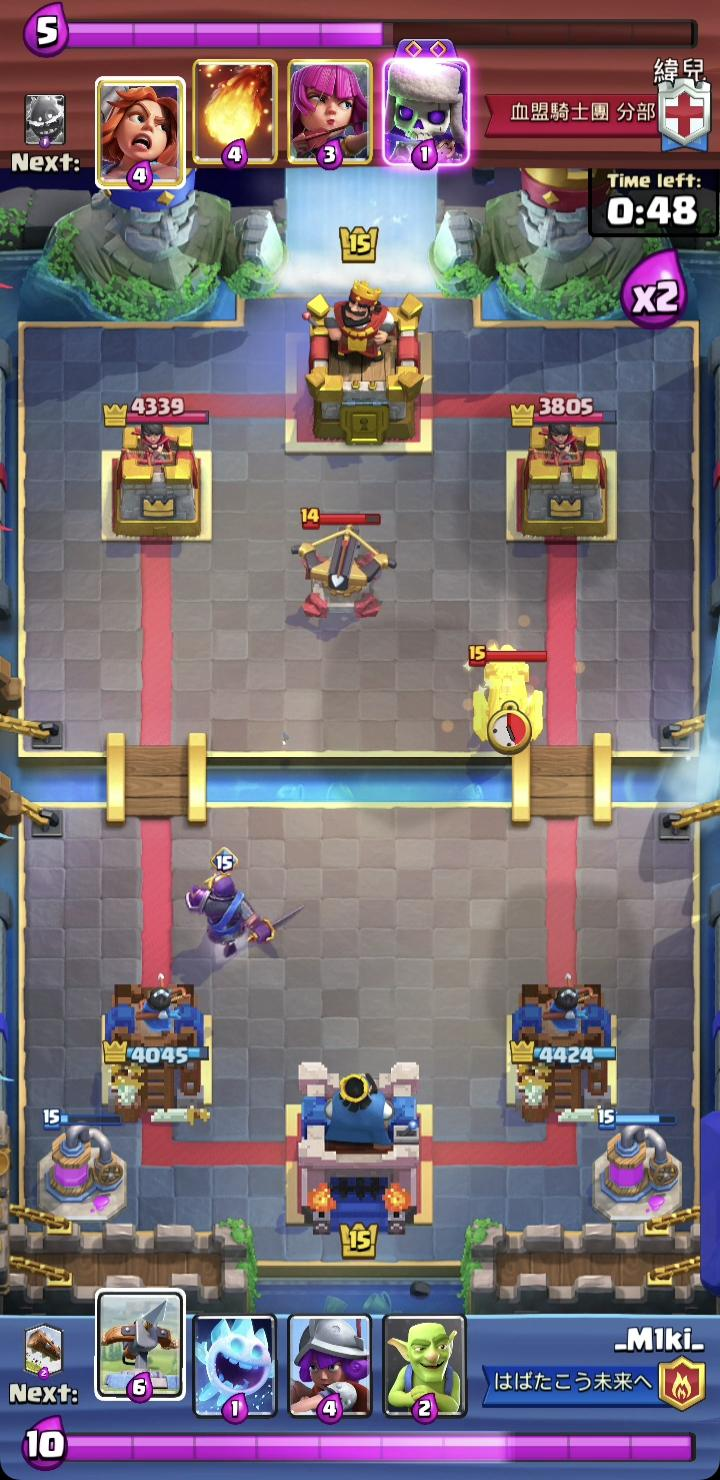ally_elixirpump: (591, 1106, 686, 1225), (35, 1108, 129, 1226)
ally_knight_evo: (184, 848, 305, 961)
enemy_tesla: (468, 642, 547, 747)
enemy_xbow: (291, 508, 397, 619)
